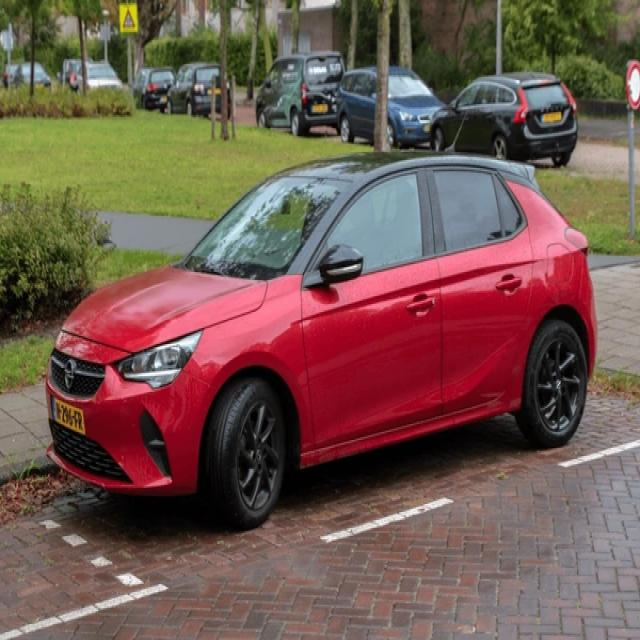opel: (56, 354, 83, 396)
